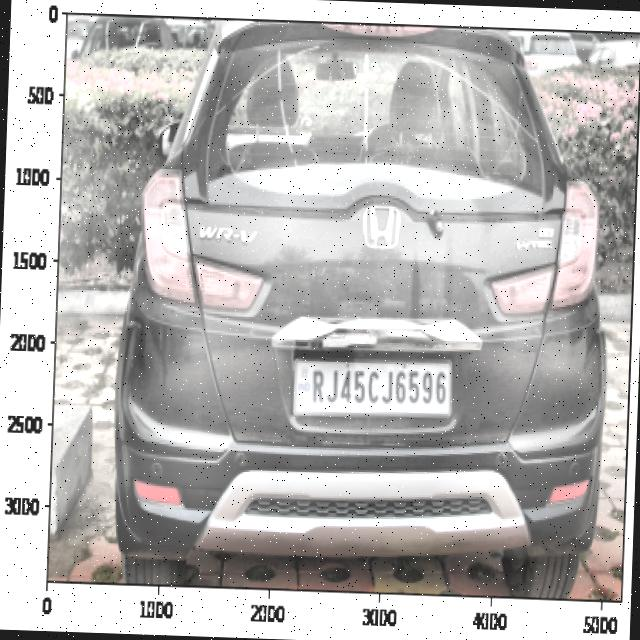license_plate: (300, 356, 454, 419)
